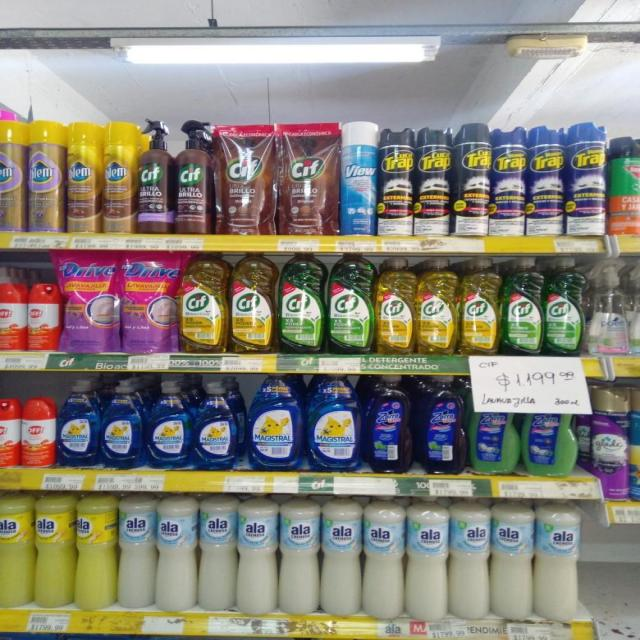ala_crem_amarillo: (75, 492, 116, 611), (34, 490, 74, 610), (0, 489, 33, 609)
ala_crem_blanco: (535, 499, 583, 622), (363, 494, 404, 620), (406, 495, 447, 621), (492, 498, 534, 621), (322, 494, 362, 617), (237, 493, 277, 616), (450, 497, 490, 620), (279, 494, 319, 616), (156, 493, 196, 612), (198, 494, 236, 613), (118, 492, 154, 610)
cif_conc_bot_amarilla: (179, 252, 227, 354), (230, 251, 276, 355), (417, 256, 458, 356), (460, 258, 500, 356), (376, 257, 415, 356)
cif_conc_botella_verde: (327, 252, 374, 356), (278, 251, 324, 355), (502, 257, 543, 356), (544, 256, 584, 357)
drive: (61, 248, 119, 354)
magistral_con_amarillo: (632, 268, 640, 354)
magistral_con_azul: (306, 373, 362, 473), (248, 373, 304, 472), (194, 379, 243, 471), (147, 379, 191, 470), (101, 378, 144, 469), (58, 379, 100, 468)
zorro: (416, 374, 467, 475), (365, 373, 412, 474), (469, 384, 518, 476)
